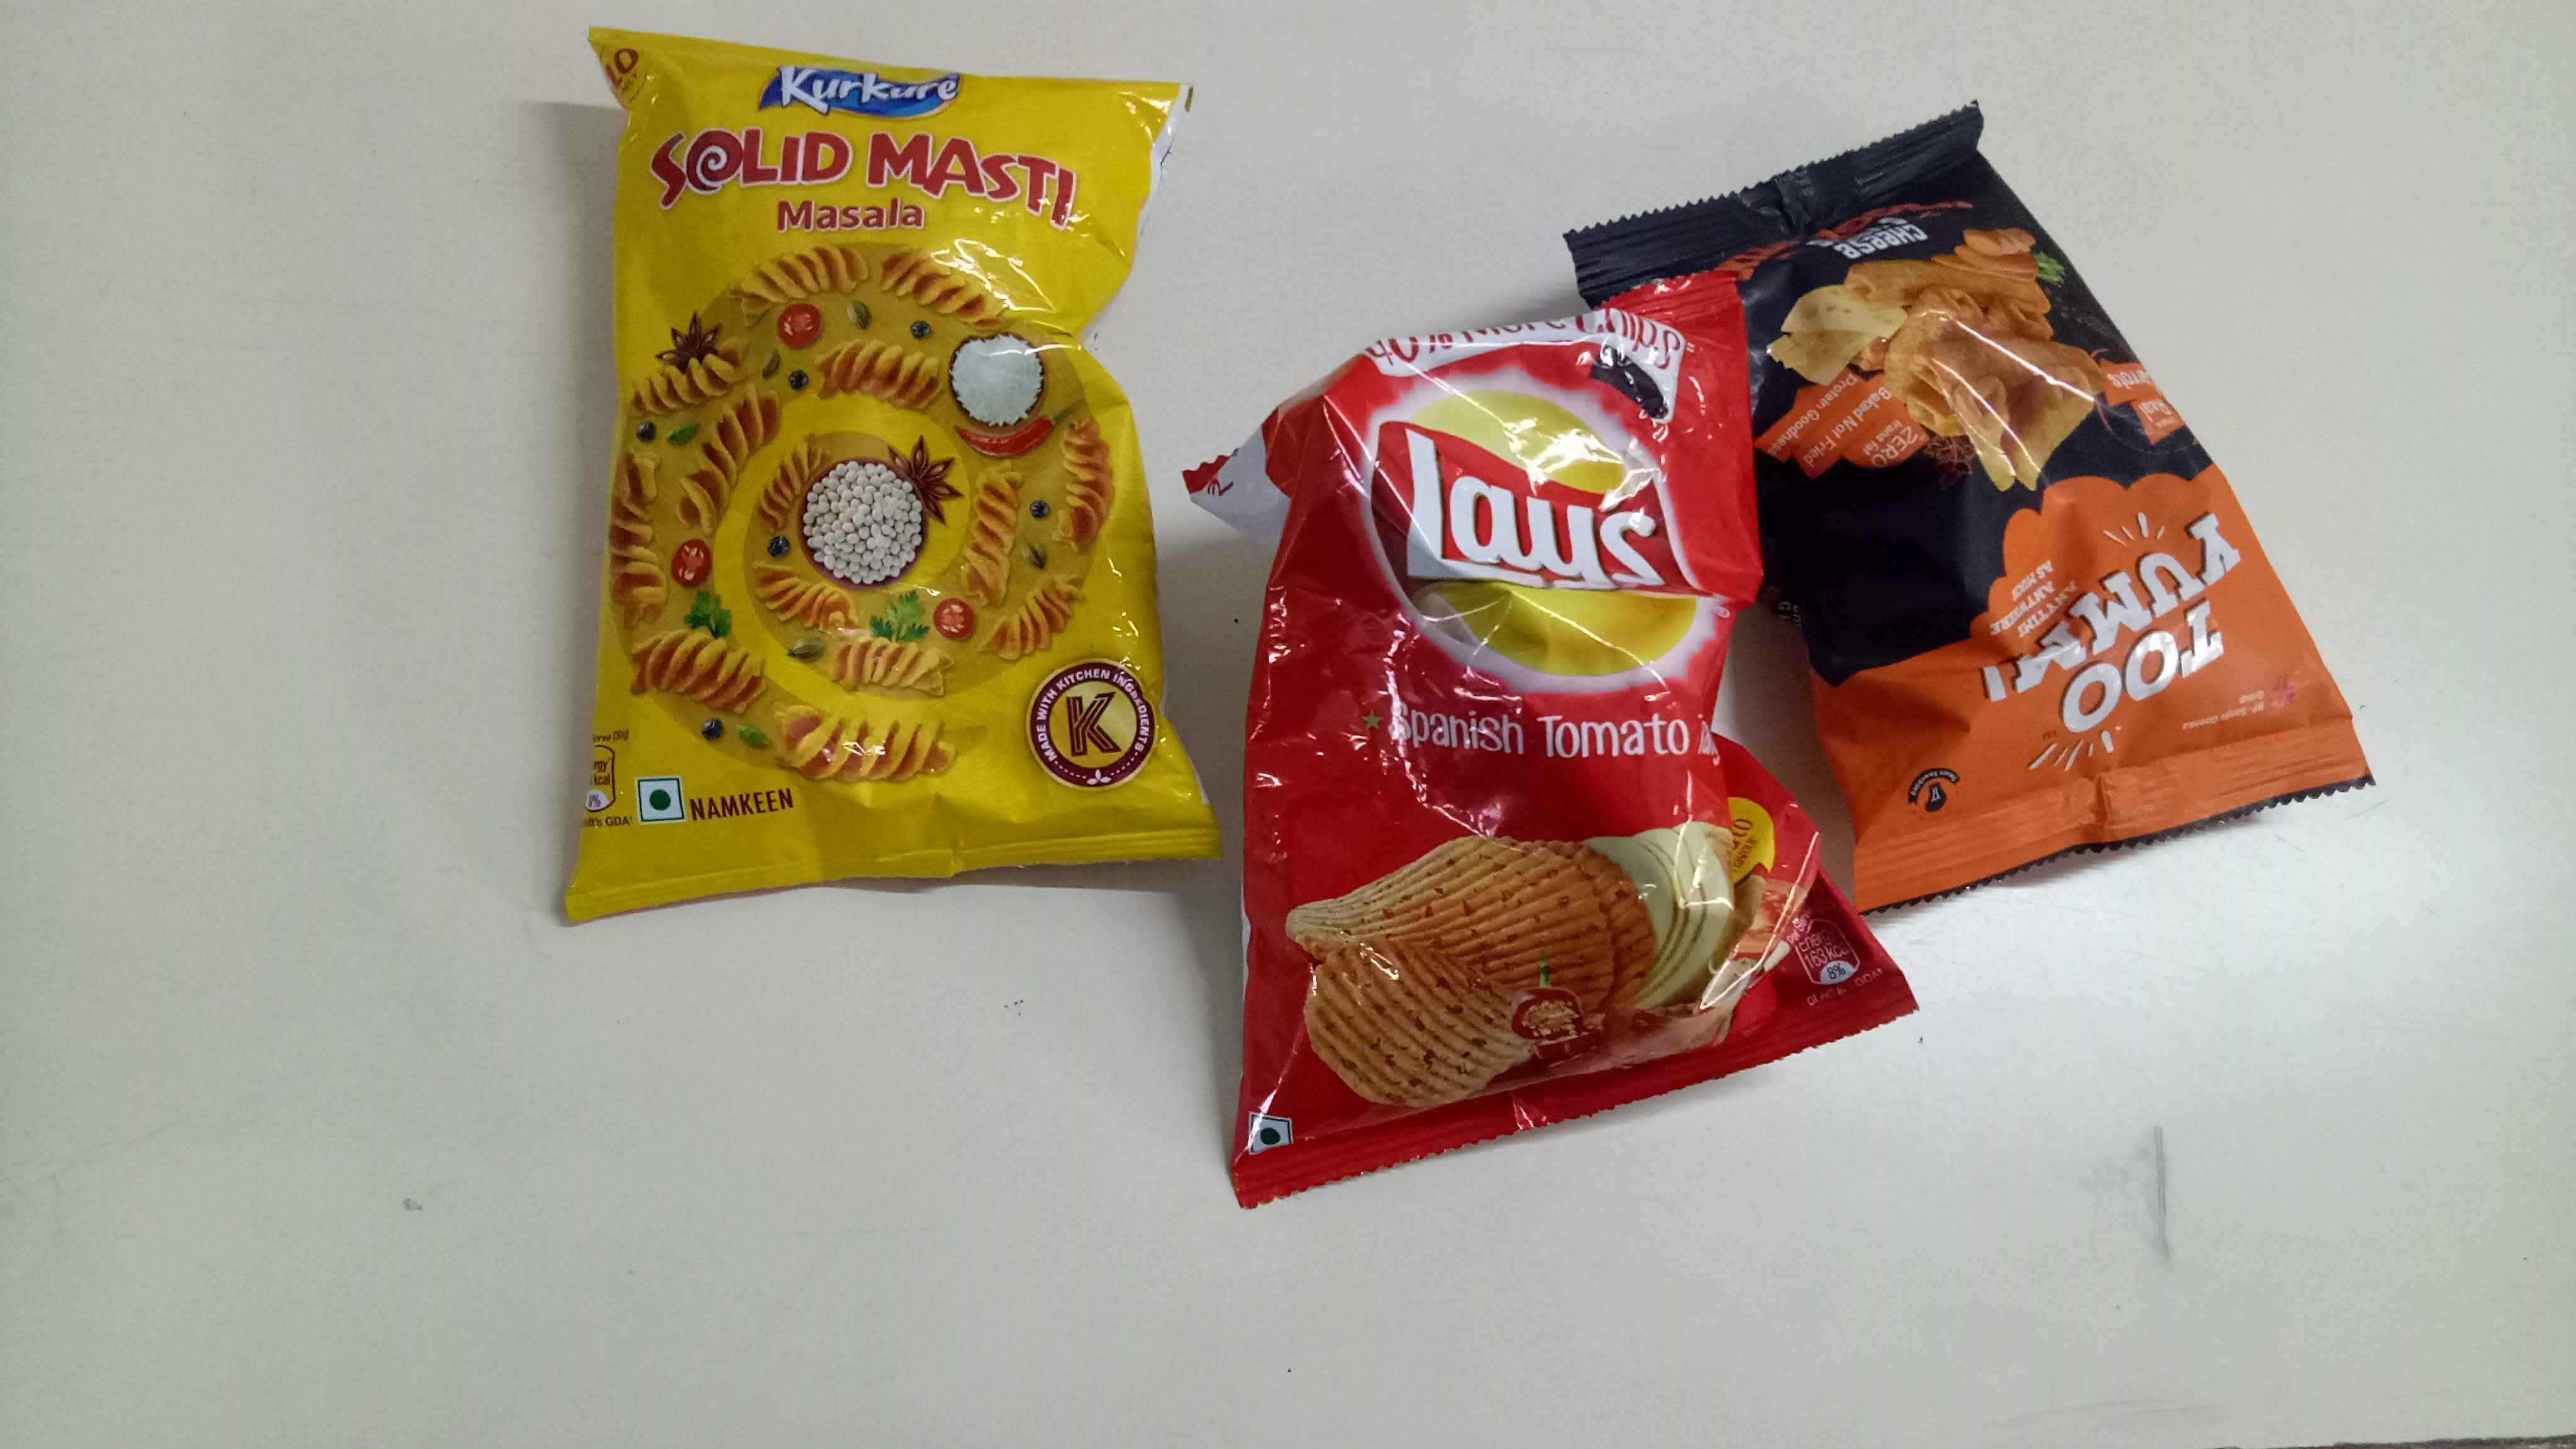Lays: (1343, 379, 1711, 708)
kurkure: (752, 64, 993, 131)
tooyumm: (1976, 504, 2250, 793)
